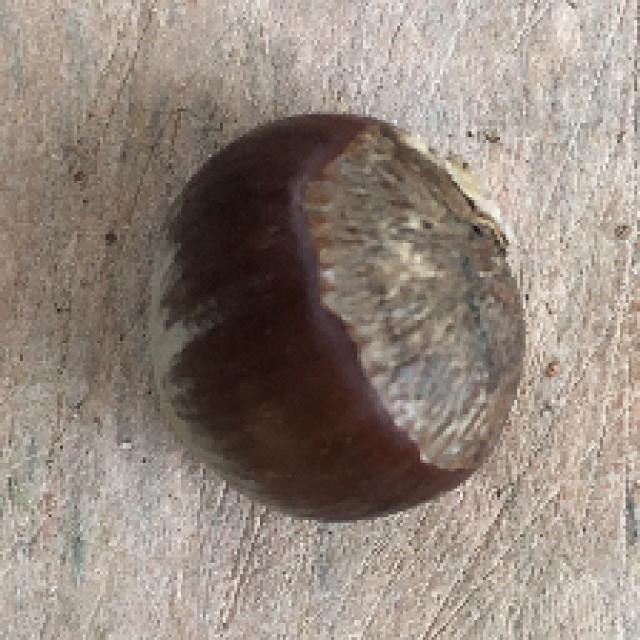damagedHazelnut: (139, 106, 528, 527)
